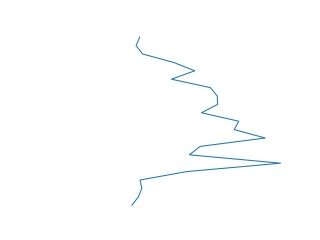floodSwamp: (129, 34, 283, 208)
